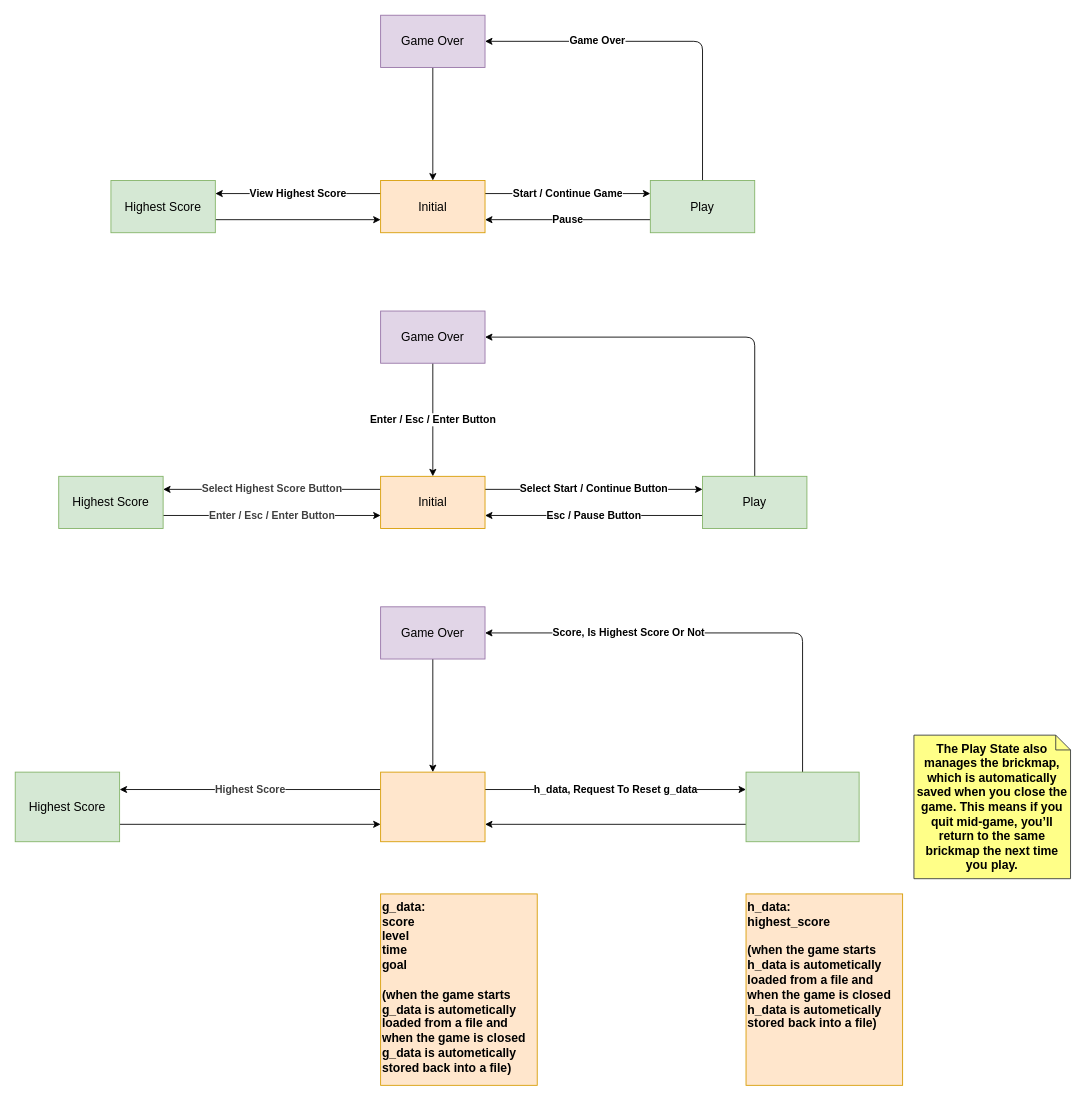
The diagram is 1086 pixels wide and 1101 high, and some of its shapes have lost their labels. Each missing label, with the box of its shape:
Initial [owns h_data]: (380, 771, 485, 842)
Play [owns g_data] [r / w h_data]: (745, 771, 859, 842)
